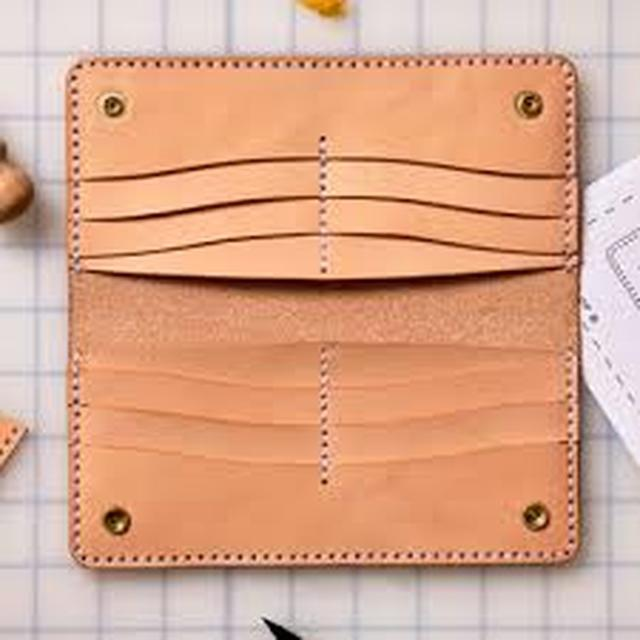wallet: (32, 50, 612, 601)
